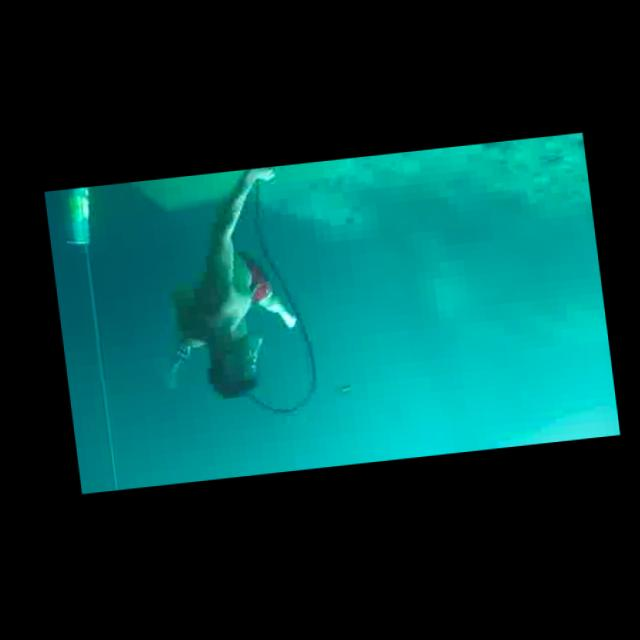human: (147, 166, 312, 410)
